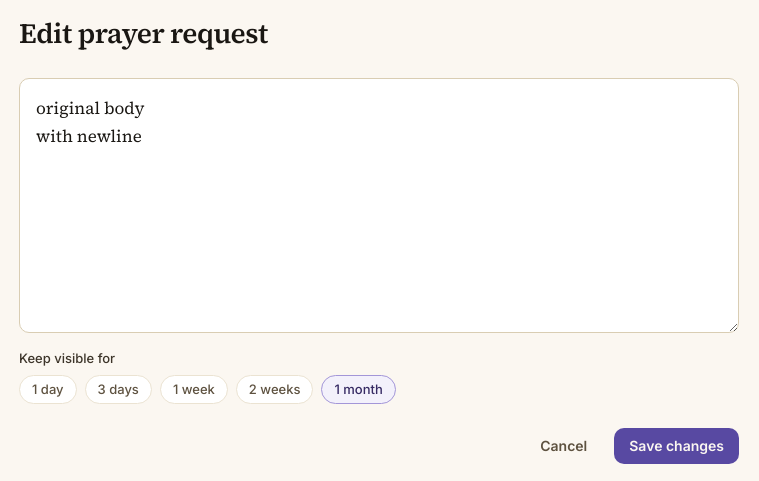
Test: EditPostPage › disables Save when body is empty
The width and height of the screenshot is (759, 481).
Wait for hydration before clearing — see "persists typing to the buffer".
Clear the text box named "body" at (379, 206), box 19,78 -> 739,333
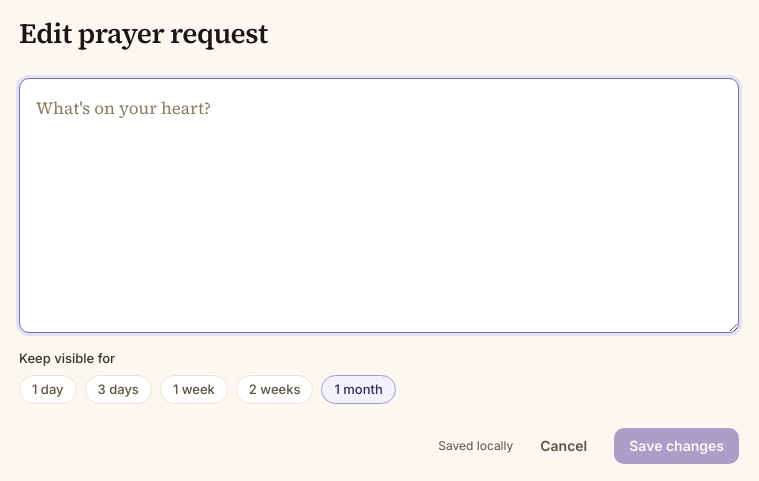
Check: the button "Save changes" is disabled, box 614,428 -> 739,464
